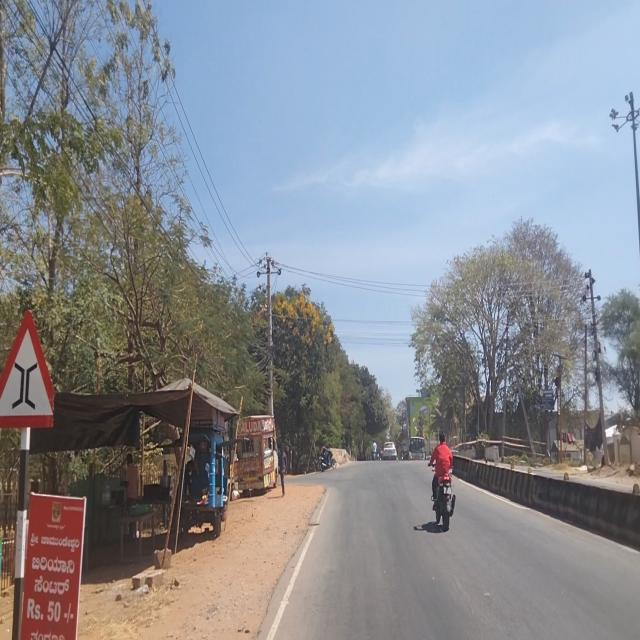bien_cam: (1, 300, 56, 435)
